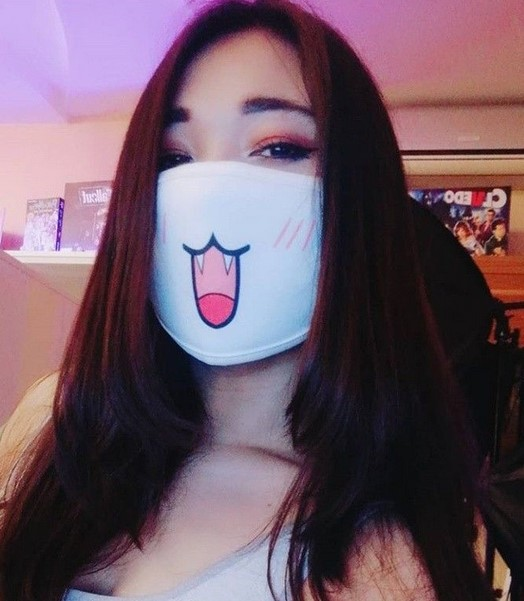face_with_mask: (126, 5, 387, 366)
